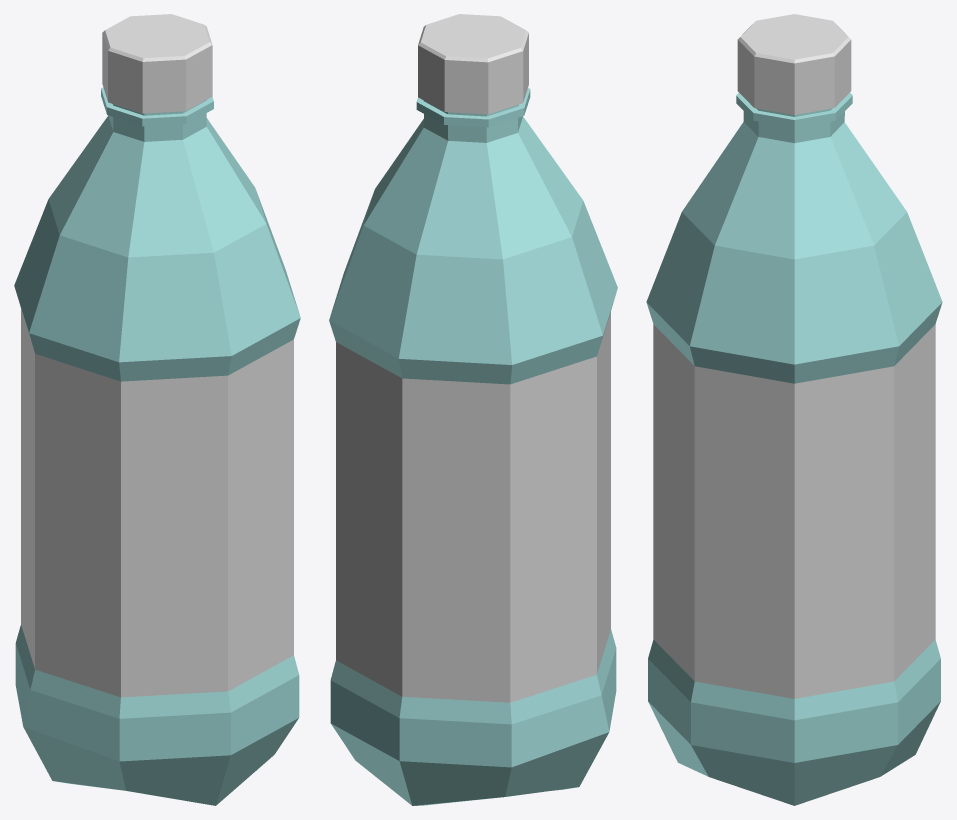
File: Botengina.fbx
The picture shows the model from 3 angles, left to right: view 1: azimuth 30°, elevation 25°; view 2: azimuth 150°, elevation 25°; view 3: azimuth 270°, elevation 25°; orthographic projection.
Parts seen in each view (by area): view 1: Water_Bottle; view 2: Water_Bottle; view 3: Water_Bottle.
Part boxes in pixels (x1,y1,x2,y2): Water_Bottle: [14, 14, 300, 805]; Water_Bottle: [329, 14, 617, 805]; Water_Bottle: [646, 14, 942, 805].
Bounding box in the file's own units: 0.6723 × 1.78 × 0.6568.
